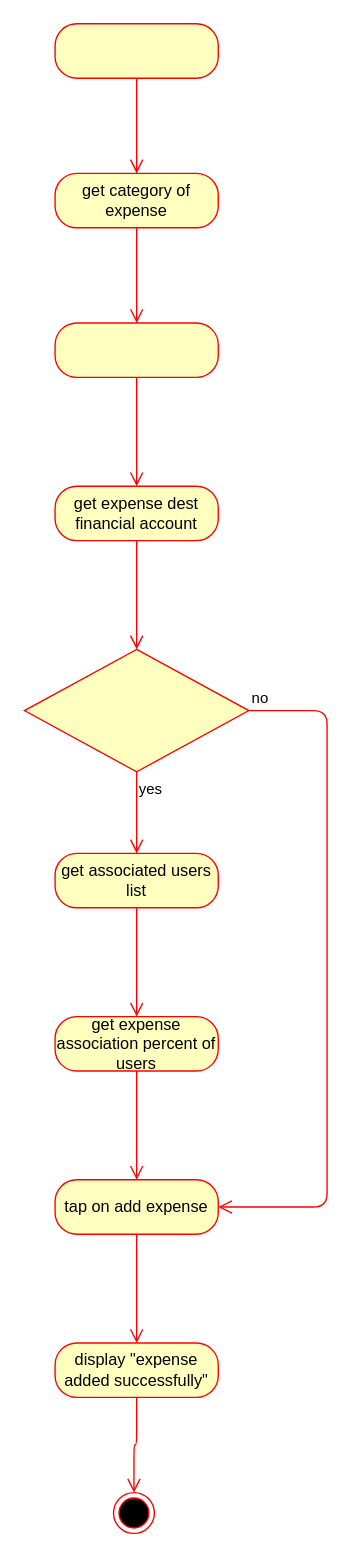
Image size: 364x1557. Some labels were removed from this diagram. The centre of each missing label's shape, as x and y in pixels:
get expense source financial account: (136,349)
is there any associated expense user?: (136,710)
Tap add expense: (136,50)
